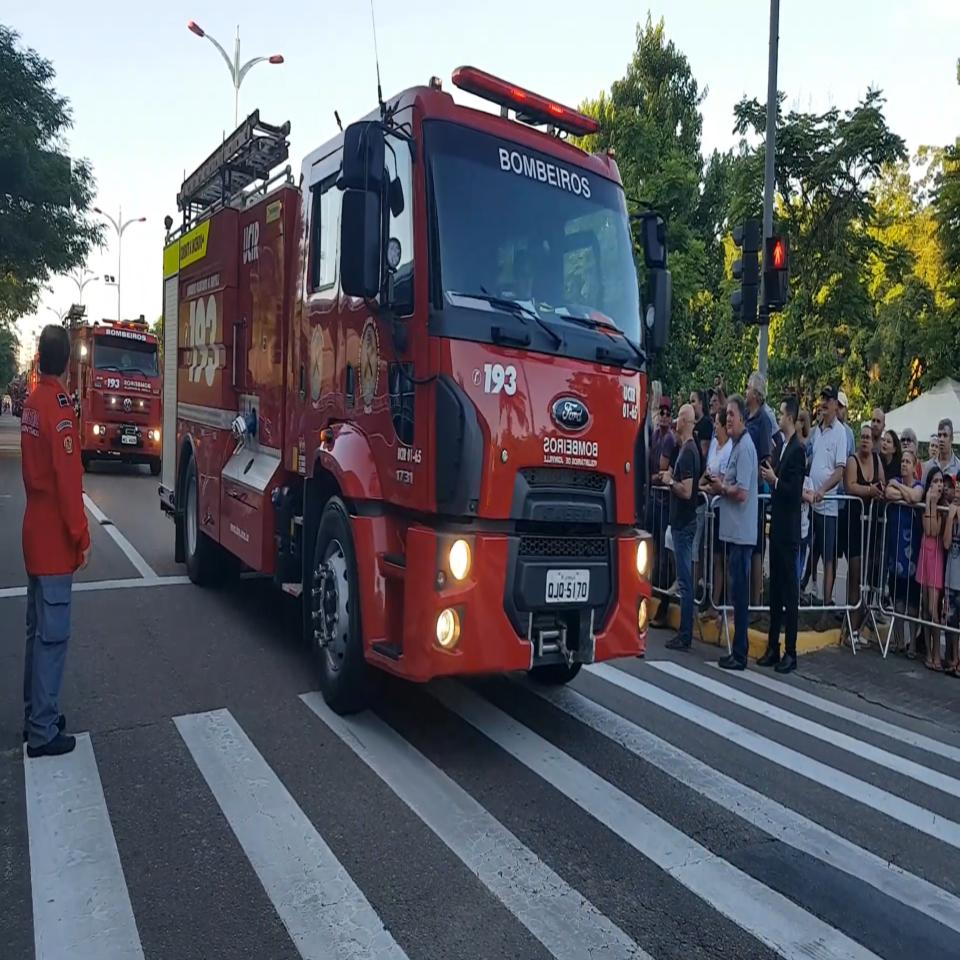viatura: (159, 61, 652, 723)
